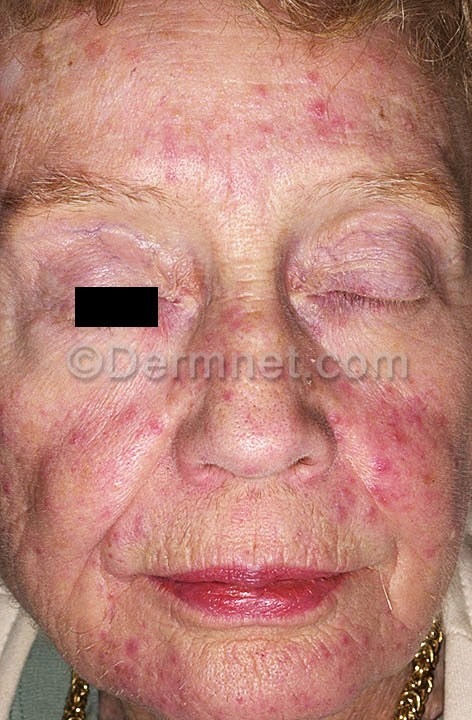Acne: (48, 72, 456, 695)
